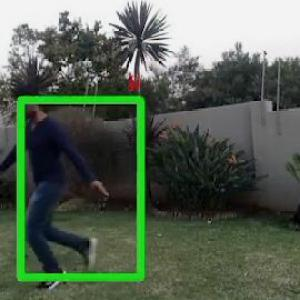land: (1, 88, 110, 293)
